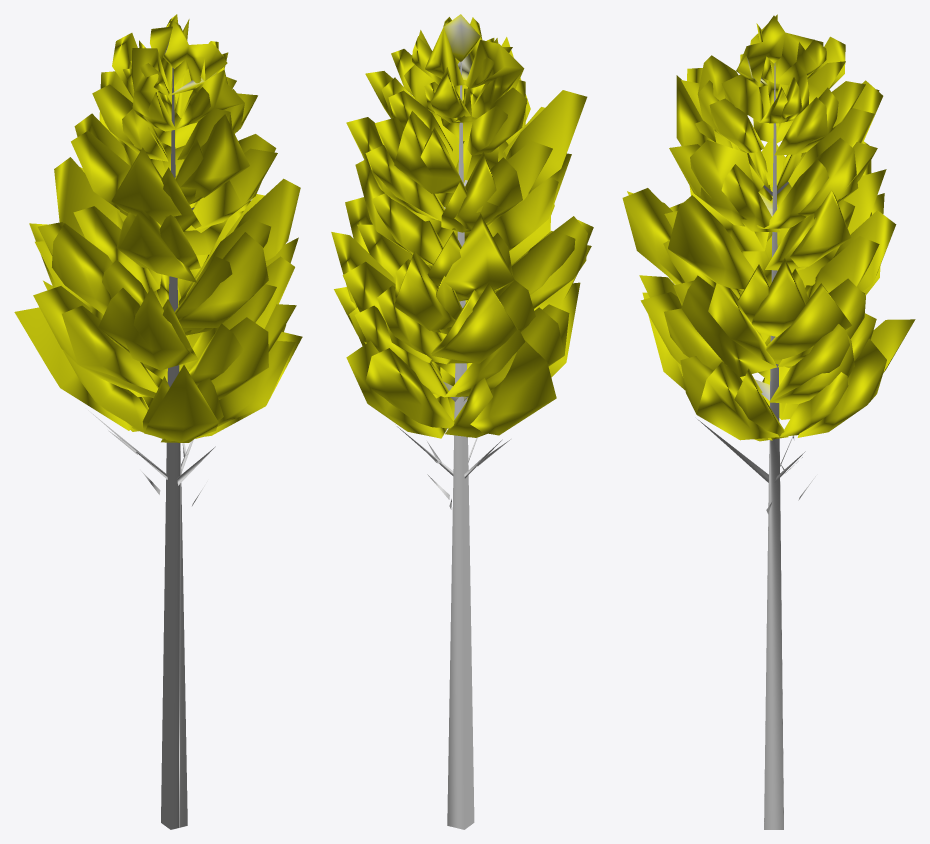
Rendered from birch_90.gltf.
3 views of the same model, side by side, from view 1: azimuth 30°, elevation 25°; view 2: azimuth 150°, elevation 25°; view 3: azimuth 270°, elevation 25° (orthographic).
Visible parts, largest first — view 1: tree; view 2: tree; view 3: tree.
Part boxes in pixels (x1,y1,x2,y2): tree: [14, 14, 302, 829]; tree: [331, 14, 593, 829]; tree: [622, 14, 915, 829].
Bounding box in the file's own units: 5.47 × 18 × 5.9.
